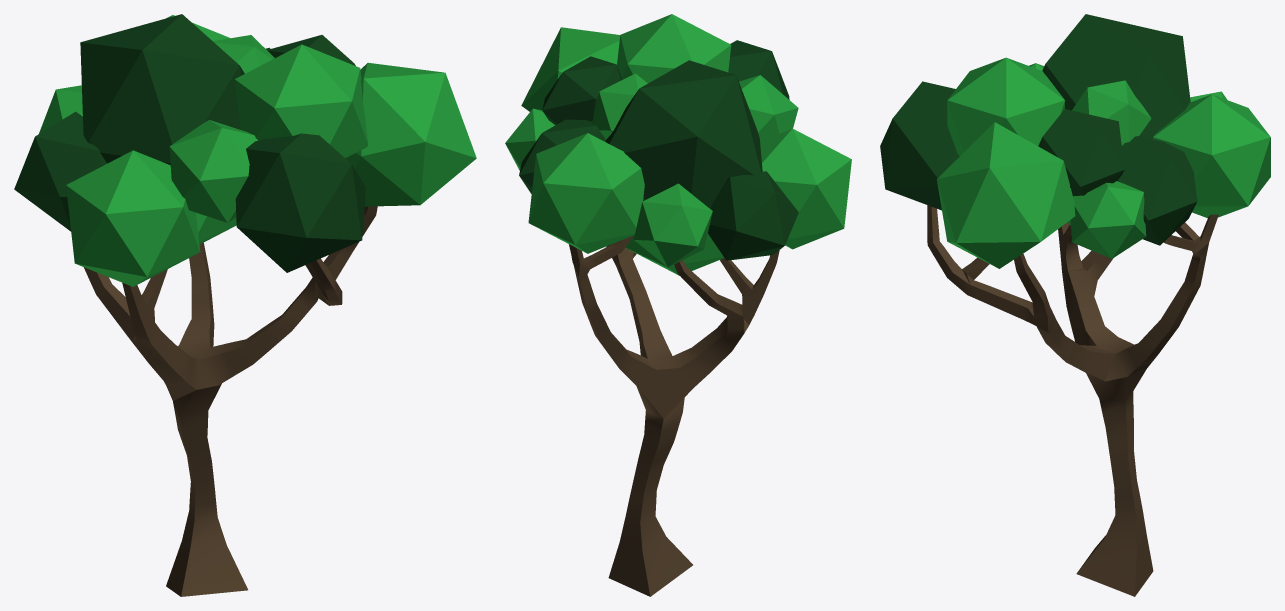
File: tree01.glb
The picture shows the model from 3 angles, left to right: view 1: azimuth 30°, elevation 25°; view 2: azimuth 150°, elevation 25°; view 3: azimuth 270°, elevation 25°; orthographic projection. The views are drawn at different scales.
Visible parts, largest first — view 1: Plane_2, Icosphere.001_4, Icosphere.005_8, Icosphere.002_5, Icosphere_3, Icosphere.008_11, Icosphere.009_12, Icosphere.014_17, Icosphere.007_10, Icosphere.004_7, Icosphere.010_13, Icosphere.012_15; view 2: Plane_2, Icosphere.001_4, Icosphere.003_6, Icosphere_3, Icosphere.014_17, Icosphere.008_11, Icosphere.004_7, Icosphere.010_13, Icosphere.002_5, Icosphere.009_12, Icosphere.005_8, Icosphere.006_9 (+3 smaller); view 3: Plane_2, Icosphere.002_5, Icosphere.001_4, Icosphere.003_6, Icosphere.008_11, Icosphere.005_8, Icosphere.006_9, Icosphere.010_13, Icosphere.013_16, Icosphere.007_10.
Boxes of the visible parts, <box> form: Plane_2: <box>84,206,377,596</box>; Icosphere.001_4: <box>80,14,244,165</box>; Icosphere.005_8: <box>235,133,365,272</box>; Icosphere.002_5: <box>345,62,476,206</box>; Icosphere_3: <box>66,150,200,286</box>; Icosphere.008_11: <box>234,44,368,158</box>; Icosphere.009_12: <box>169,120,257,222</box>; Icosphere.014_17: <box>14,111,106,231</box>; Icosphere.007_10: <box>213,35,274,73</box>; Icosphere.004_7: <box>39,85,82,133</box>; Icosphere.010_13: <box>267,35,355,65</box>; Icosphere.012_15: <box>196,212,236,244</box>; Plane_2: <box>569,235,779,596</box>; Icosphere.001_4: <box>605,60,762,208</box>; Icosphere.003_6: <box>528,133,644,253</box>; Icosphere_3: <box>760,128,851,249</box>; Icosphere.014_17: <box>708,171,798,260</box>; Icosphere.008_11: <box>617,14,731,83</box>; Icosphere.004_7: <box>633,183,712,267</box>; Icosphere.010_13: <box>542,56,621,125</box>; Icosphere.002_5: <box>521,27,620,111</box>; Icosphere.009_12: <box>739,75,798,141</box>; Icosphere.005_8: <box>728,40,789,99</box>; Icosphere.006_9: <box>519,119,605,193</box>; Plane_2: <box>927,205,1218,596</box>; Icosphere.002_5: <box>936,122,1075,268</box>; Icosphere.001_4: <box>1042,14,1190,139</box>; Icosphere.003_6: <box>1153,94,1270,218</box>; Icosphere.008_11: <box>947,57,1064,156</box>; Icosphere.005_8: <box>880,81,959,210</box>; Icosphere.006_9: <box>1117,136,1197,245</box>; Icosphere.010_13: <box>1038,109,1124,196</box>; Icosphere.013_16: <box>1070,181,1146,258</box>; Icosphere.007_10: <box>1072,80,1151,146</box>.
Size of the model in its own units: 5.55 by 8.58 by 5.64.
